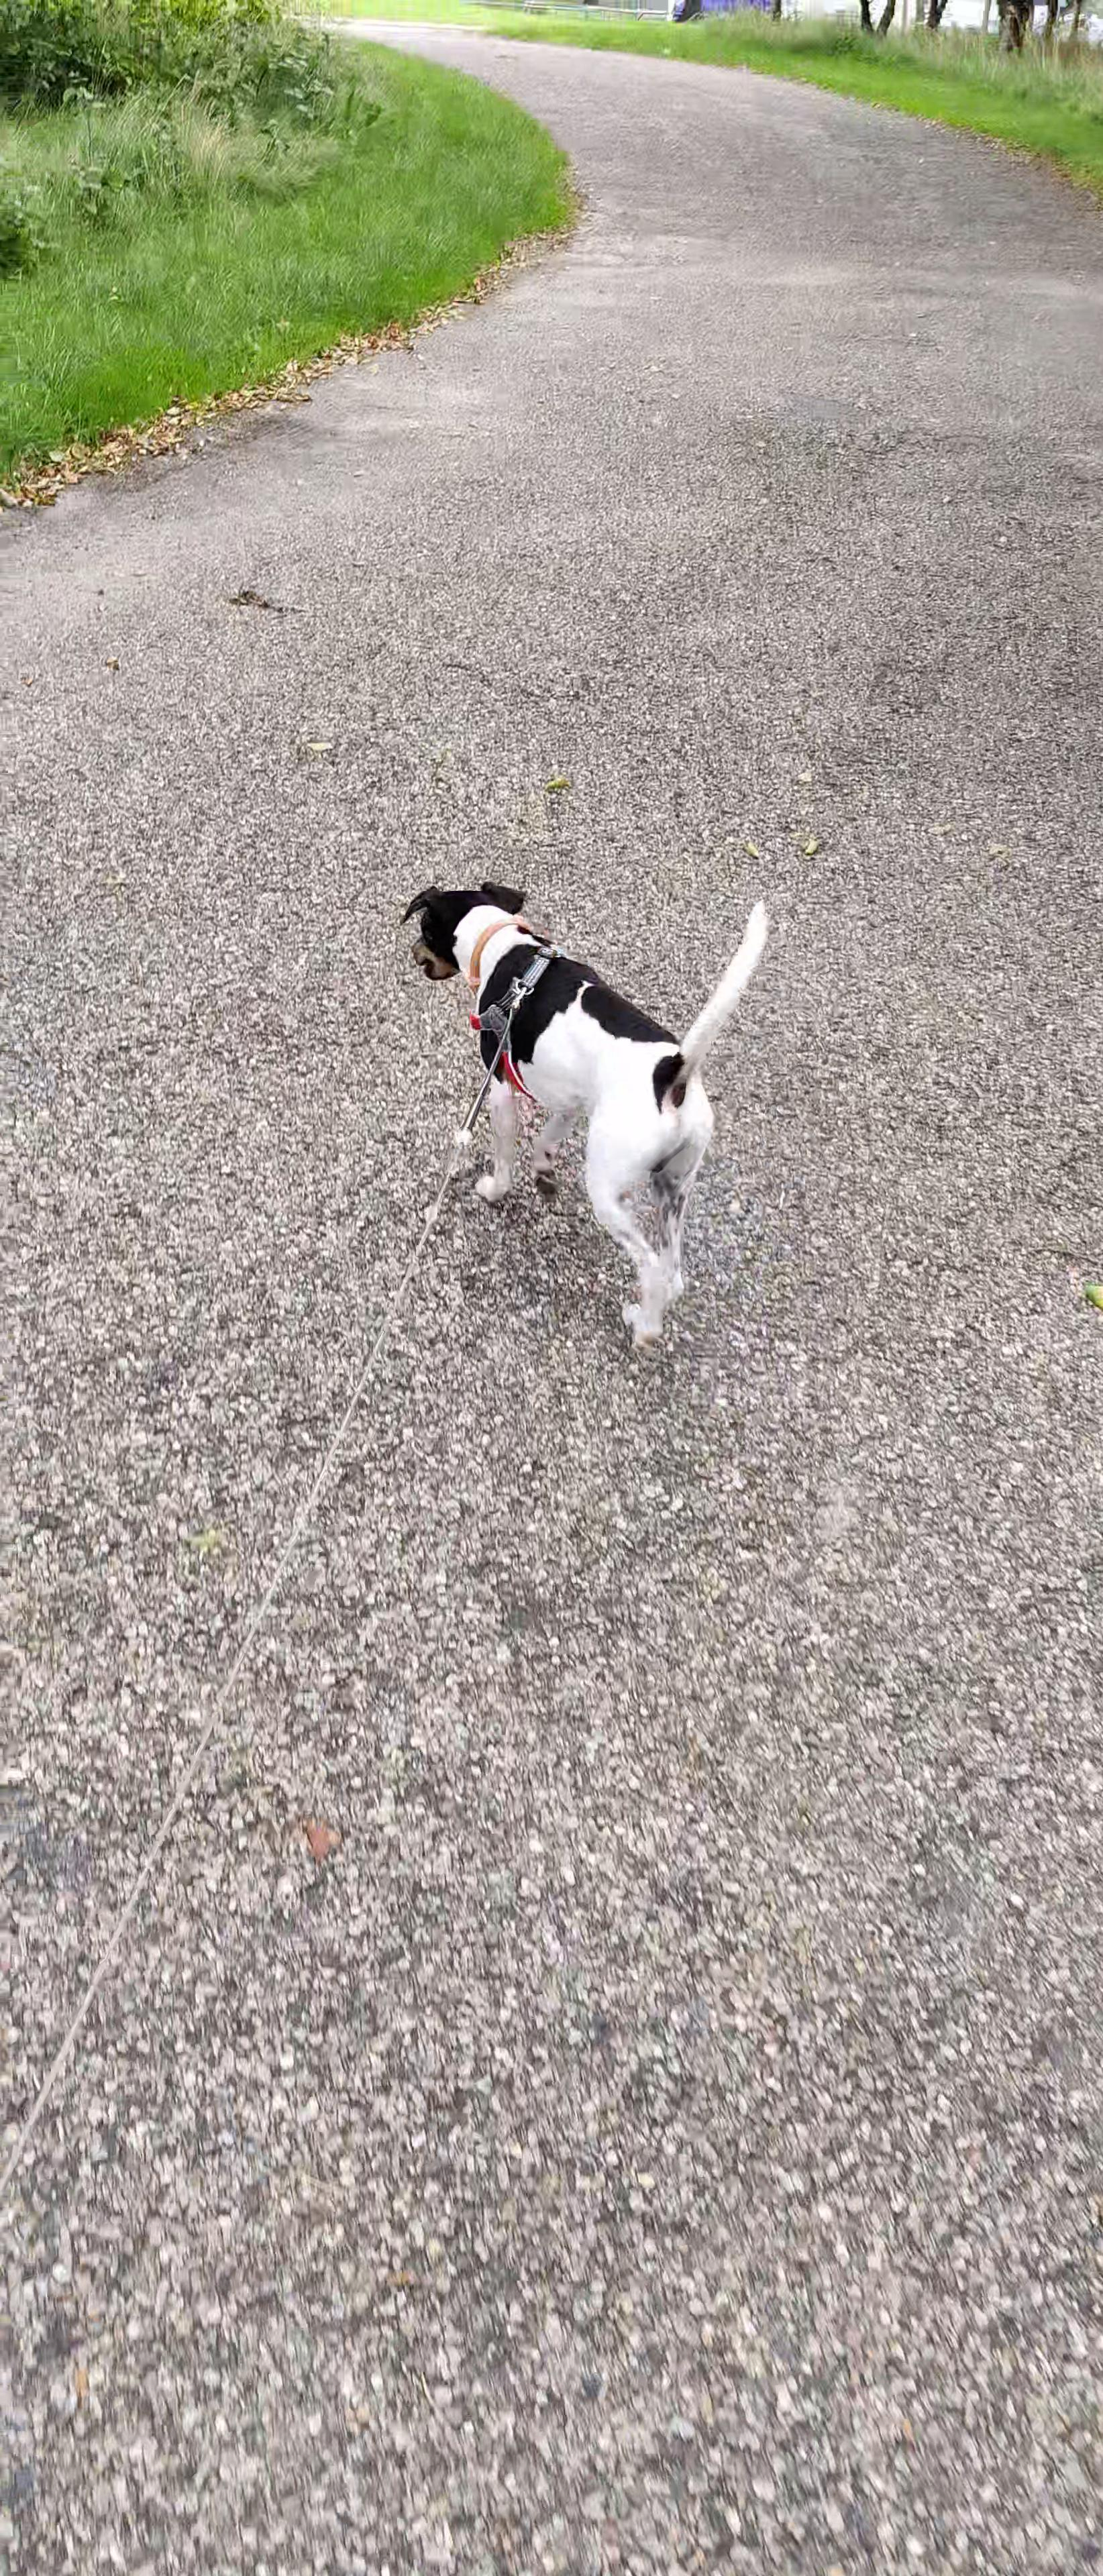Dog: (391, 874, 776, 1350)
